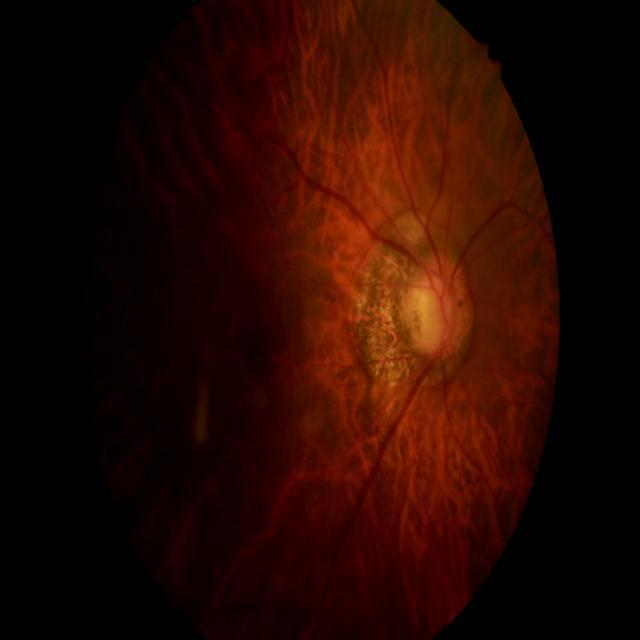cup: (422, 277, 452, 348)
disk: (411, 256, 474, 358)
